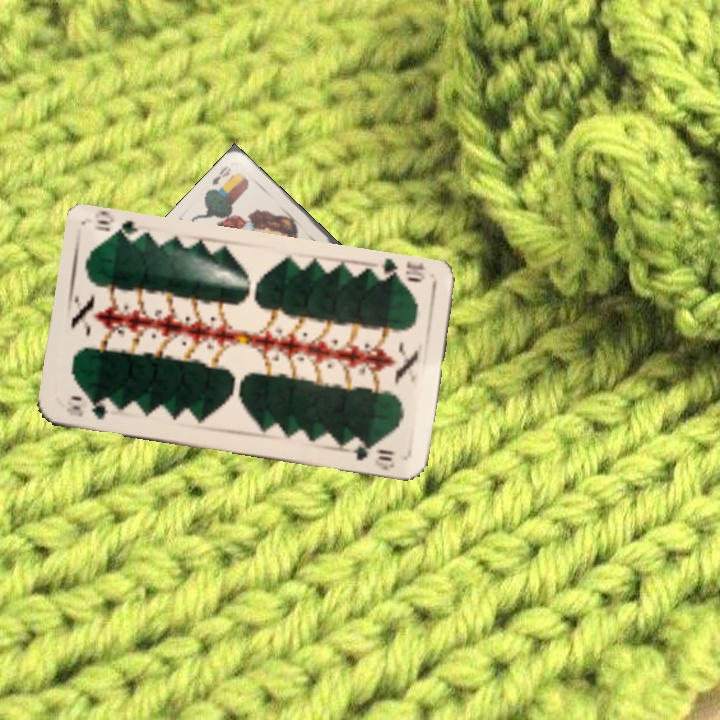EO: (204, 162, 234, 194)
G10: (373, 256, 428, 286), (63, 398, 109, 422)
